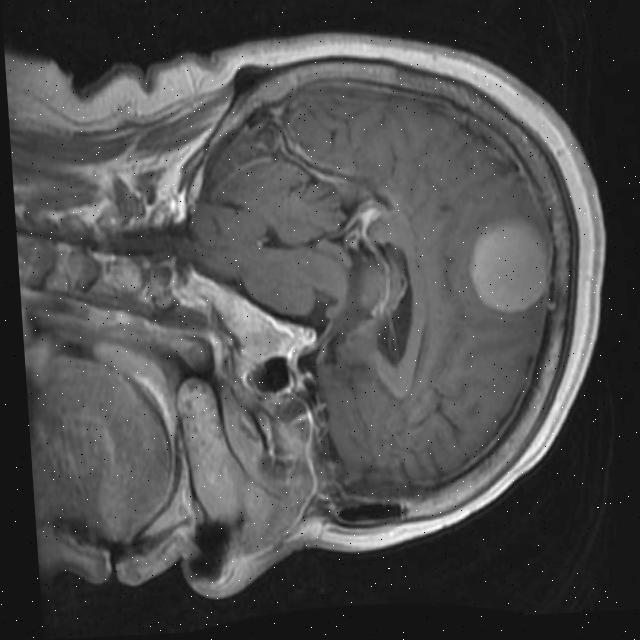Meningioma: (467, 214, 554, 317)
